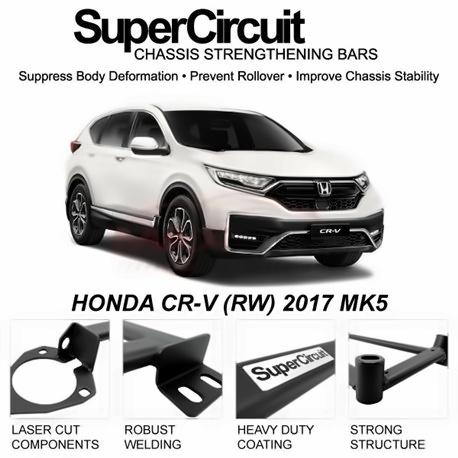Car hood: (181, 144, 365, 177)
Driver-s door - -F-R-: (108, 106, 173, 239)
Fender - -F-R-: (151, 132, 204, 217)
Front bumper: (190, 186, 387, 259)
Headlight - -L-: (350, 171, 370, 194)
Headlight - -R-: (202, 166, 282, 195)
Passenger-s door - -R-R-: (76, 99, 135, 223)
Side bumper - -R-: (82, 192, 166, 241)
Side mirror - -R-: (126, 135, 168, 158)
